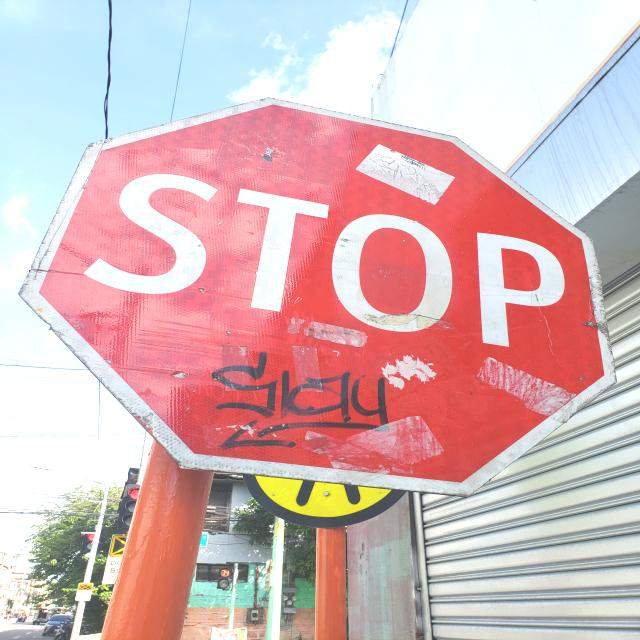stop-sign: (18, 95, 618, 498)
